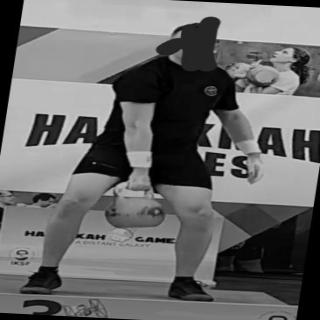kettlebell: (101, 180, 176, 233)
